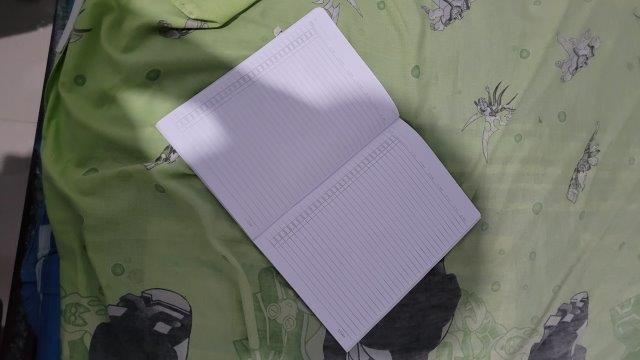kertas: (153, 8, 484, 352)
